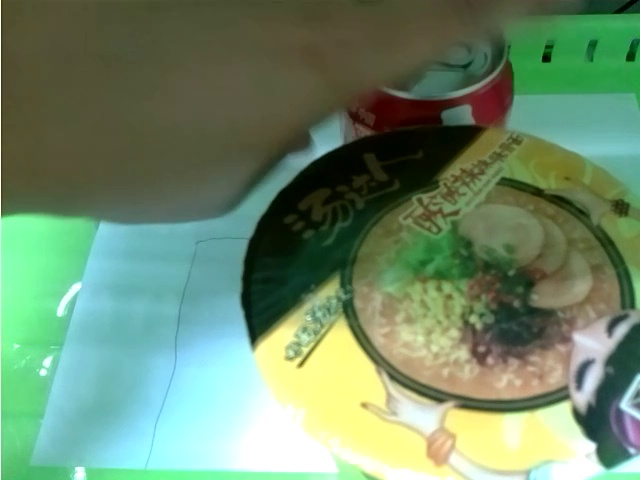cocacola: (336, 34, 520, 134)
hand: (1, 1, 426, 214)
noodles: (238, 125, 640, 480)
